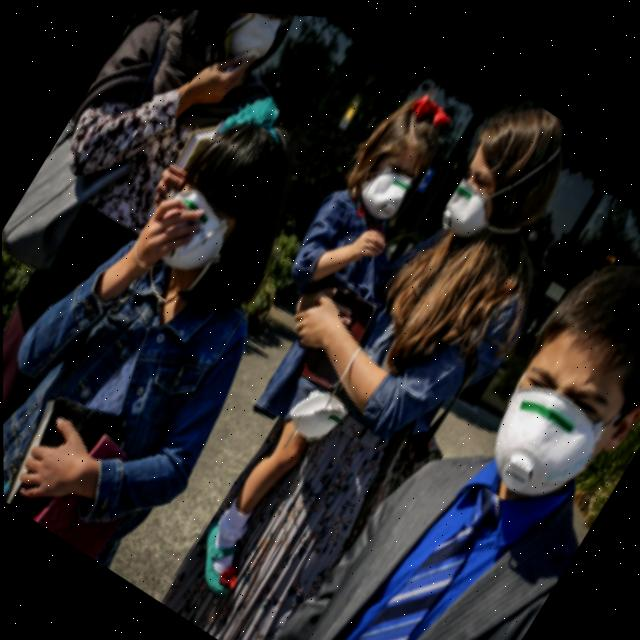Mask: (470, 364, 610, 513), (136, 182, 238, 287), (432, 157, 521, 251), (200, 8, 285, 81), (345, 152, 413, 223)
